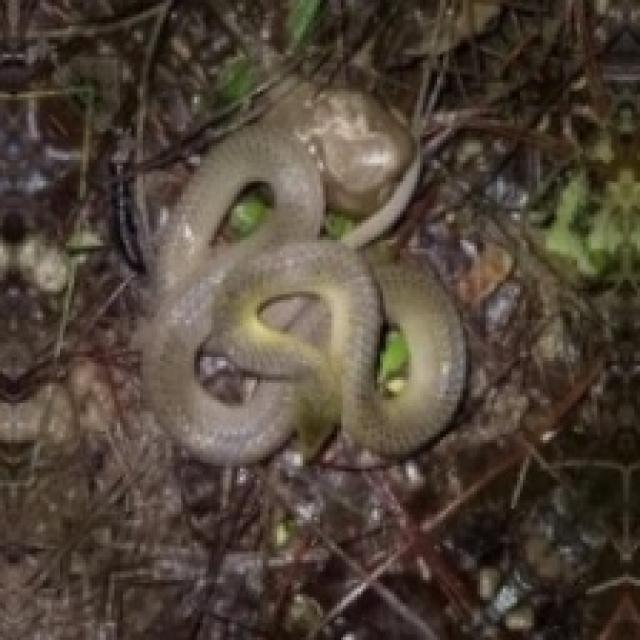gunthers philippine shrub snake: (146, 83, 463, 463)
